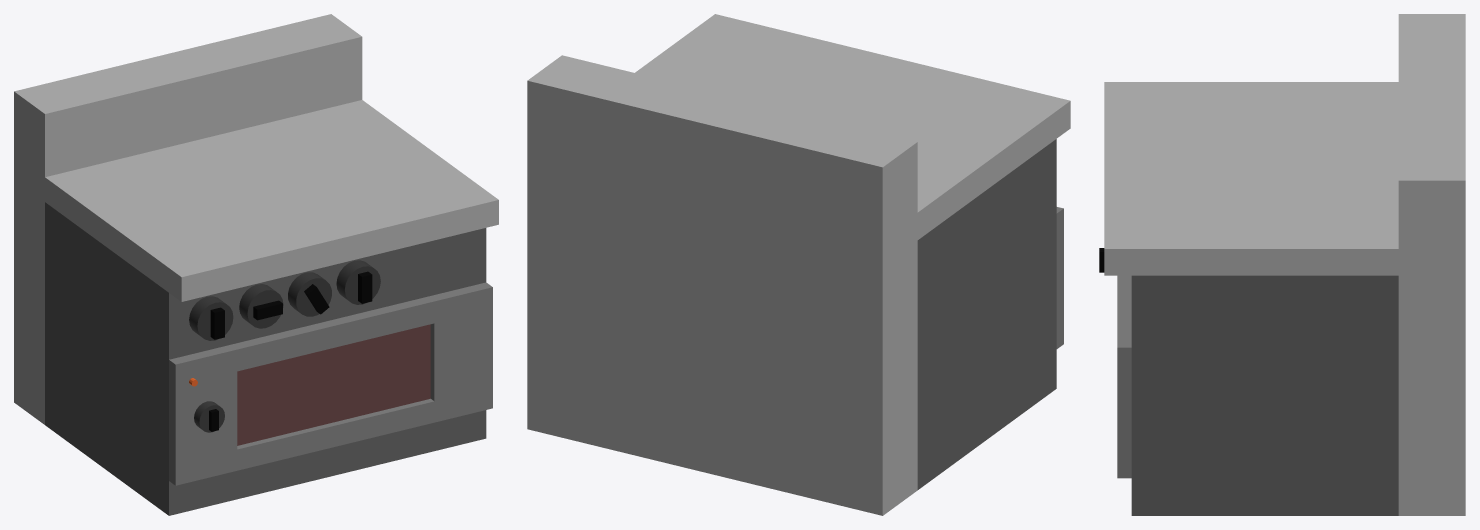
File: KitchenOven.fbx
3 renders of one model, left to right at view 1: azimuth 30°, elevation 25°; view 2: azimuth 150°, elevation 25°; view 3: azimuth 270°, elevation 25°, orthographic. The views are drawn at different scales.
Visible parts, largest first — view 1: KitchenOven; view 2: KitchenOven; view 3: KitchenOven.
Boxes of the visible parts, box(x1,y1,x2,y2) form: KitchenOven: box(14, 14, 498, 515); KitchenOven: box(527, 14, 1070, 515); KitchenOven: box(1099, 14, 1465, 515).
Size of the model in its own units: 42.95 by 40.25 by 39.85.
Materials: 1 (1 with a texture image).
